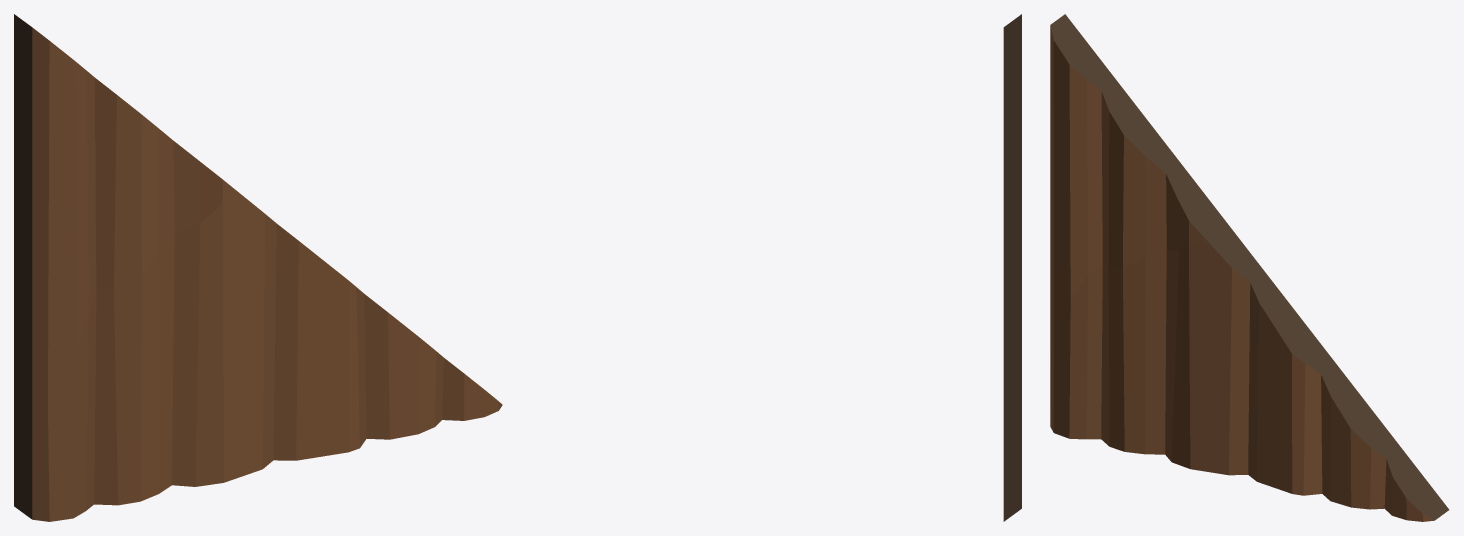
The model's file is buildings-wall-wood-vertical-end-r-3x3m.glb.
3 renders of one model, left to right at view 1: azimuth 30°, elevation 25°; view 2: azimuth 150°, elevation 25°; view 3: azimuth 330°, elevation 25°, orthographic. The views are drawn at different scales.
Parts seen in each view (by area): view 1: wall-wood-vertical-end-r-3x3m; view 2: wall-wood-vertical-end-r-3x3m; view 3: wall-wood-vertical-end-r-3x3m.
Part boxes in pixels (box(x1,y1,x2,y2)): wall-wood-vertical-end-r-3x3m: box(14, 14, 502, 521); wall-wood-vertical-end-r-3x3m: box(1003, 14, 1021, 521); wall-wood-vertical-end-r-3x3m: box(1050, 14, 1449, 521).
Size of the model in its own units: 3 by 3 by 0.3163.
